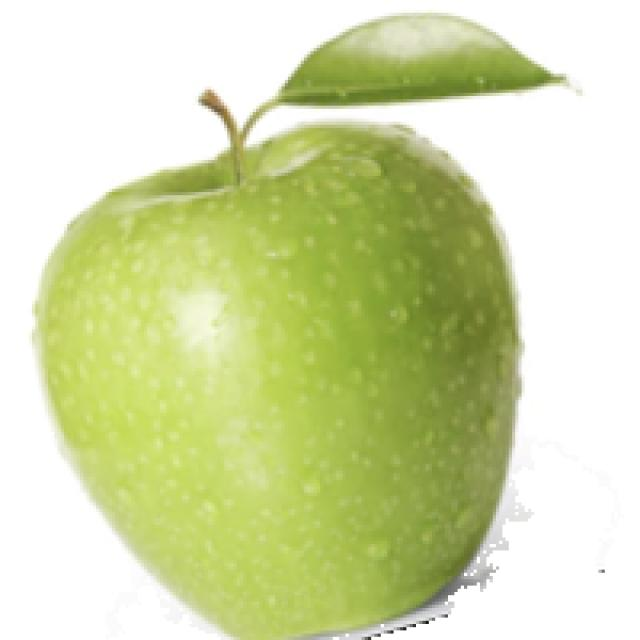apple: (26, 6, 586, 637)
